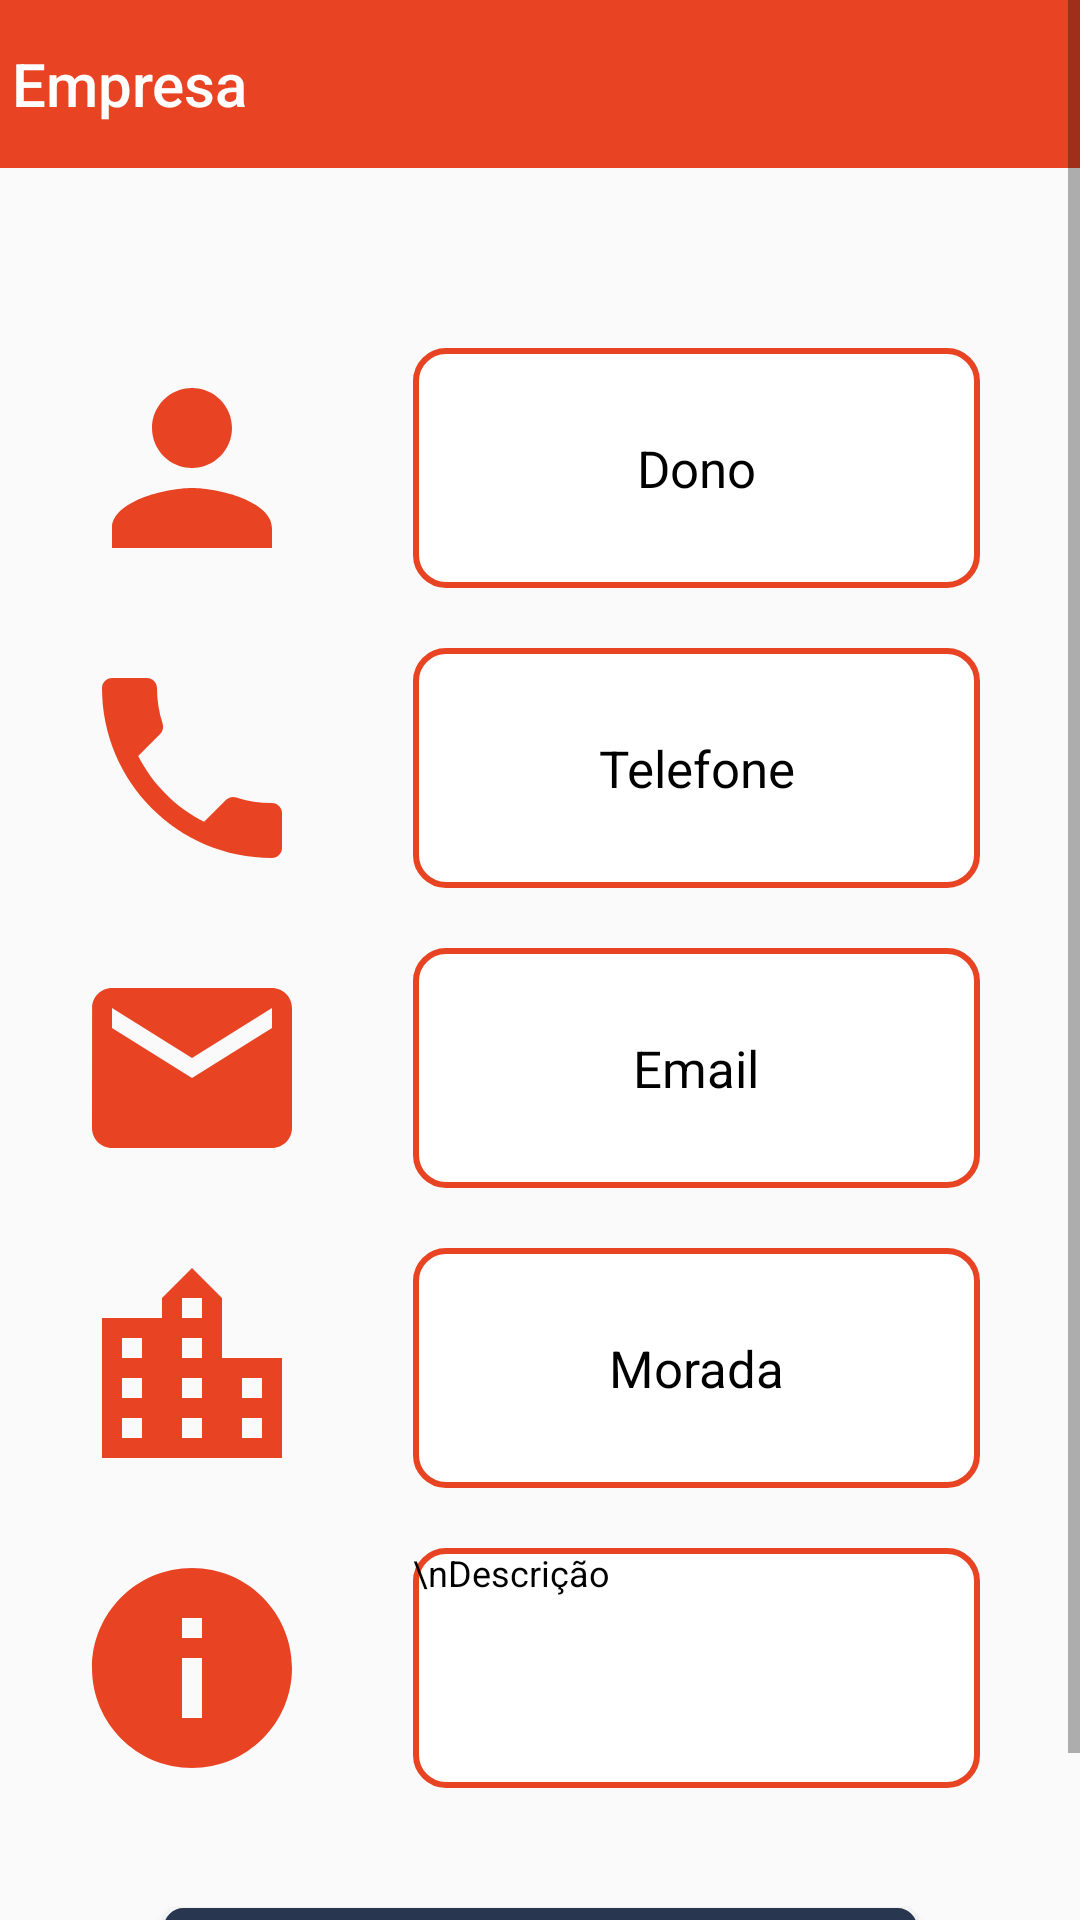

Named icons in this screenshot (1080px×1920px) and their centers, point (x, y):
info: point (192, 1668)
local phone: point (192, 768)
location city: point (192, 1363)
person: point (192, 468)
